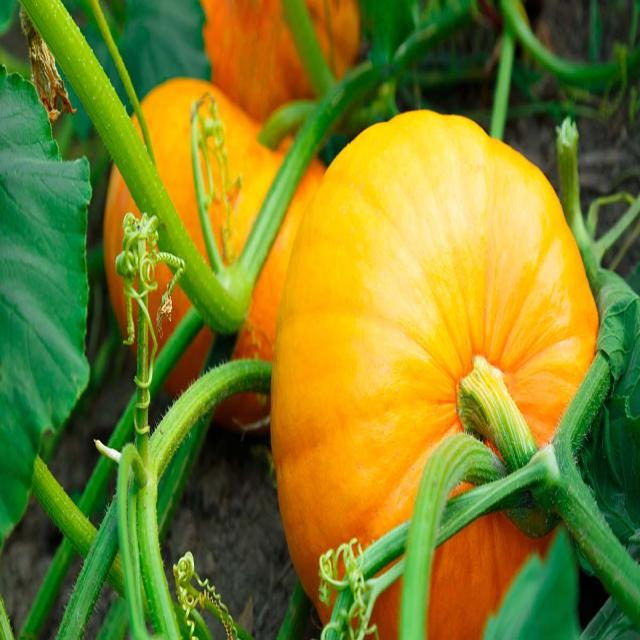pumpkin: (271, 112, 599, 604), (141, 79, 291, 261), (234, 160, 325, 361), (202, 0, 314, 121), (429, 517, 530, 637), (104, 167, 136, 333), (307, 0, 360, 79), (165, 326, 212, 396), (215, 393, 270, 431), (208, 138, 225, 254), (159, 288, 189, 346)
